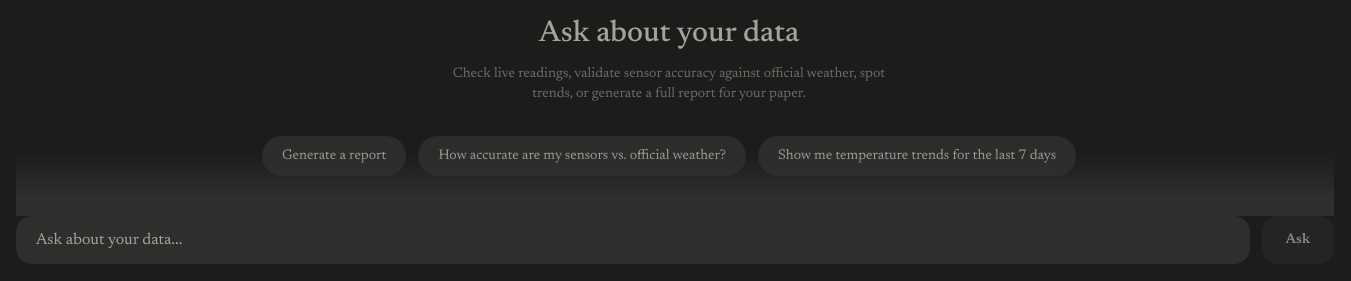
AIChat › sends page context and strips status markers from streamed content
Type "What is the latest temp?" into the text box with placeholder "Ask about your data...".
click(633, 240); type("What is the latest temp?")  # box [16,216,1250,264]
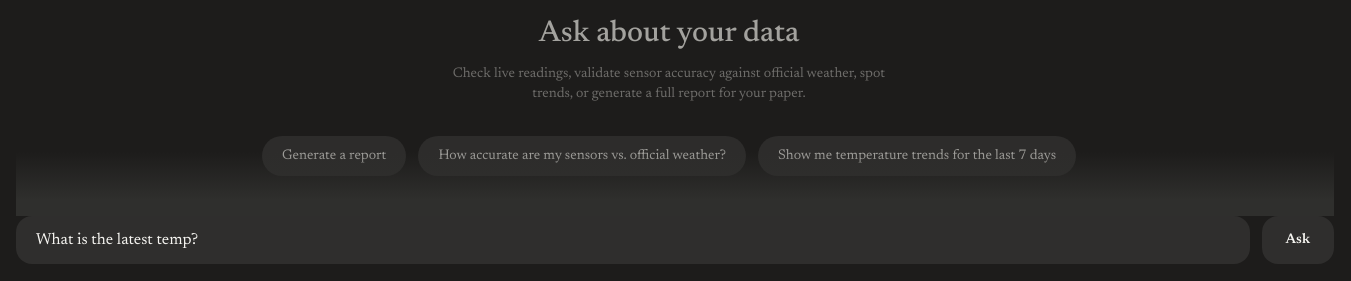
Click the button "Ask".
click(1298, 240)  # box [1262,216,1334,264]
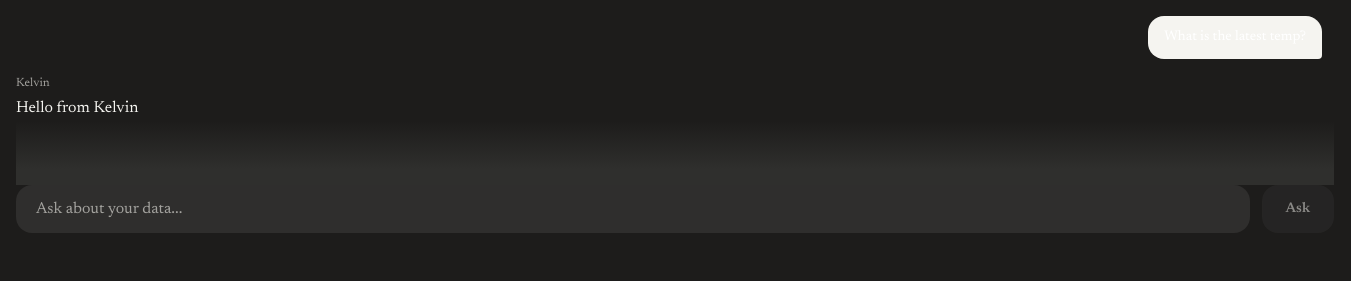
Check: the text "Hello from Kelvin" is shown, box [16,95,138,121]
